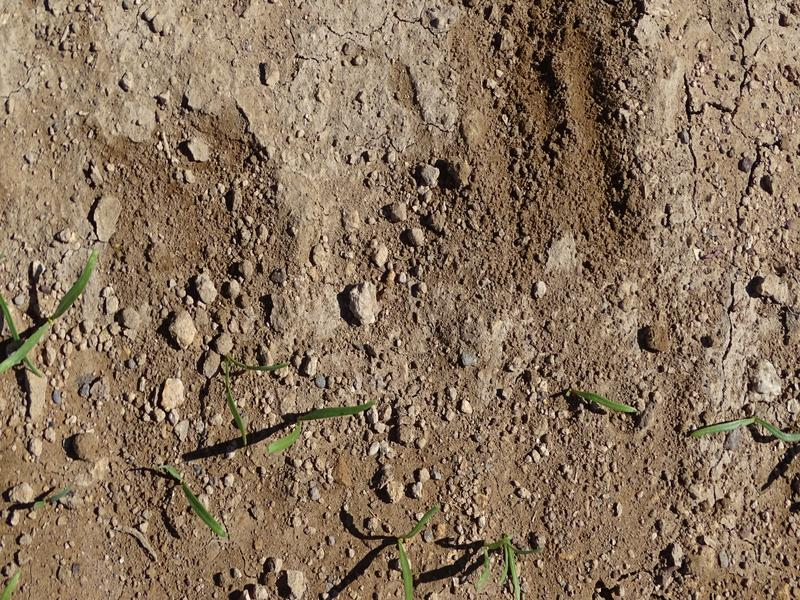Espinaca: (7, 248, 101, 367), (272, 399, 378, 459), (160, 463, 232, 538), (390, 504, 447, 591), (683, 411, 798, 446), (479, 528, 531, 594), (569, 387, 638, 418)
